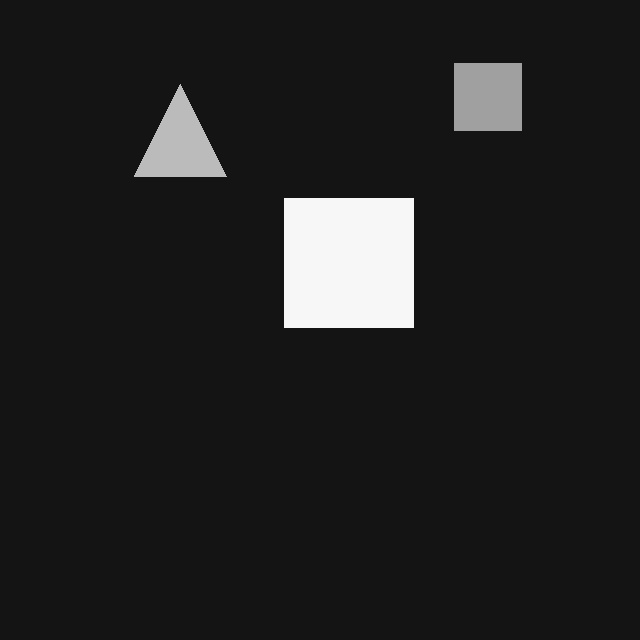square: (284, 198, 413, 327), (454, 63, 521, 130)
triangle: (134, 84, 226, 176)
